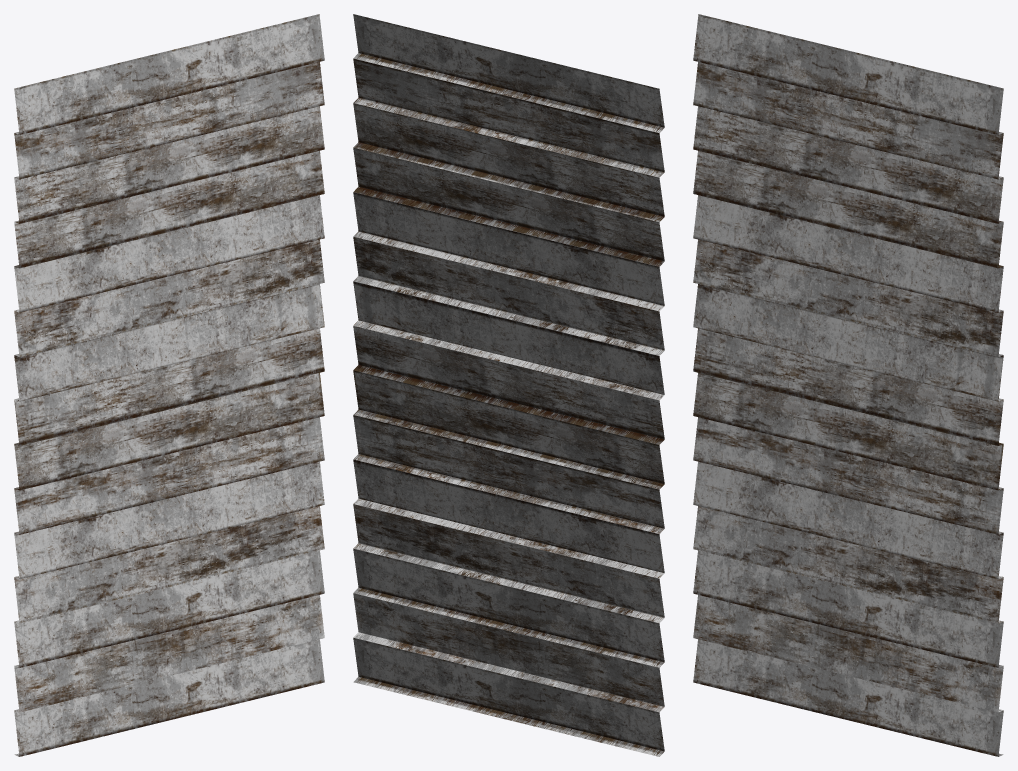
The model's file is SM_Wall_2m_Wagonka.fbx.
3 views of the same model, side by side, from view 1: azimuth 30°, elevation 25°; view 2: azimuth 150°, elevation 25°; view 3: azimuth 330°, elevation 25° (orthographic).
Parts seen in each view (by area): view 1: SM_Wall_2m_Wagonka; view 2: SM_Wall_2m_Wagonka; view 3: SM_Wall_2m_Wagonka.
Boxes of the visible parts, left/top/right/bottom form: SM_Wall_2m_Wagonka: left=14, top=14, right=324, bottom=756; SM_Wall_2m_Wagonka: left=353, top=14, right=664, bottom=756; SM_Wall_2m_Wagonka: left=693, top=14, right=1003, bottom=756.
Bounding box in the file's own units: 2 × 4.17 × 0.0601.
